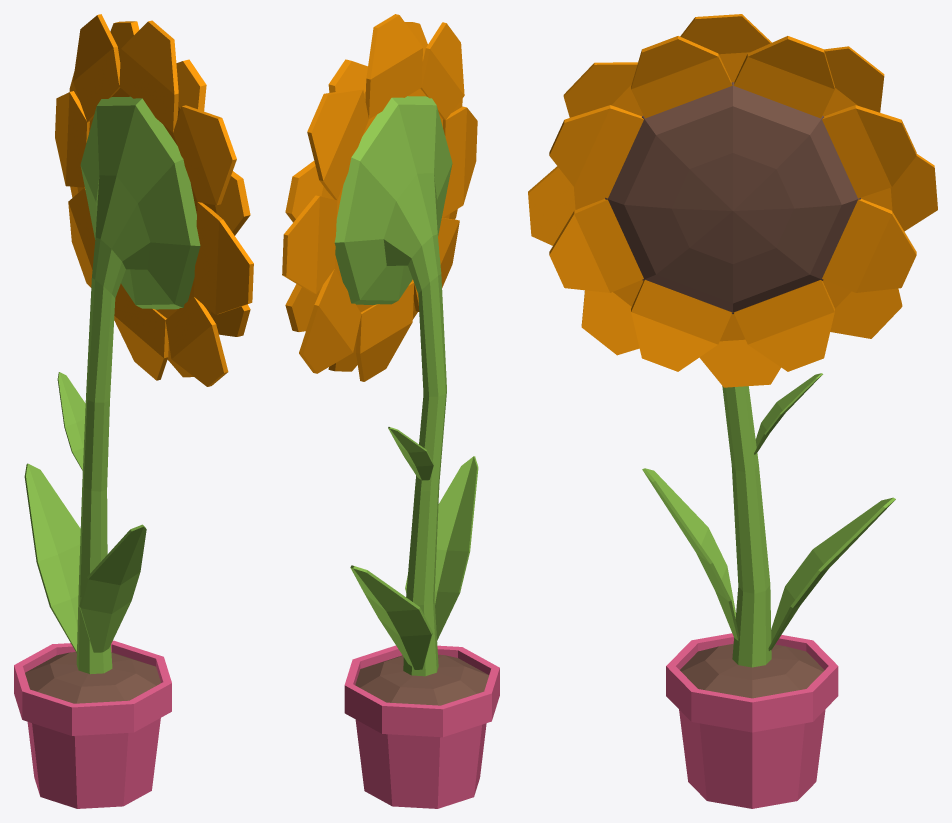
Rendered from Sunflower.glb.
3 views of the same model, side by side, from view 1: azimuth 30°, elevation 25°; view 2: azimuth 150°, elevation 25°; view 3: azimuth 270°, elevation 25° (orthographic). The views are drawn at different scales.
Parts seen in each view (by area): view 1: sunflower_Circle.001; view 2: sunflower_Circle.001; view 3: sunflower_Circle.001.
Part boxes in pixels (x1=…): sunflower_Circle.001: x1=14, y1=14, x2=253, y2=808; sunflower_Circle.001: x1=282, y1=14, x2=499, y2=808; sunflower_Circle.001: x1=528, y1=14, x2=937, y2=808.
Size of the model in its own units: 1.98 by 9.97 by 4.67.
